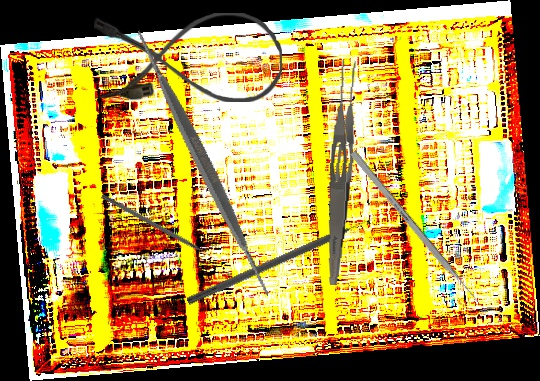Cannula: (94, 13, 282, 102)
Dressing Forceps: (324, 59, 361, 286)
Hook Surgical: (185, 212, 381, 307), (100, 193, 220, 263)
Pusher: (349, 150, 487, 312)
Spatula Surgical: (52, 12, 354, 315)
